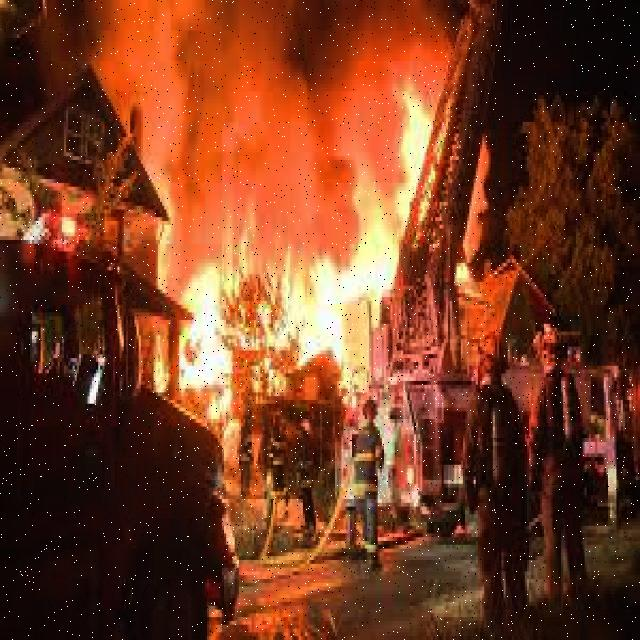fire: (164, 177, 436, 395)
